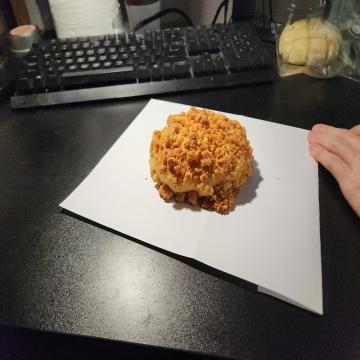soboru_bread: (148, 106, 253, 219)
